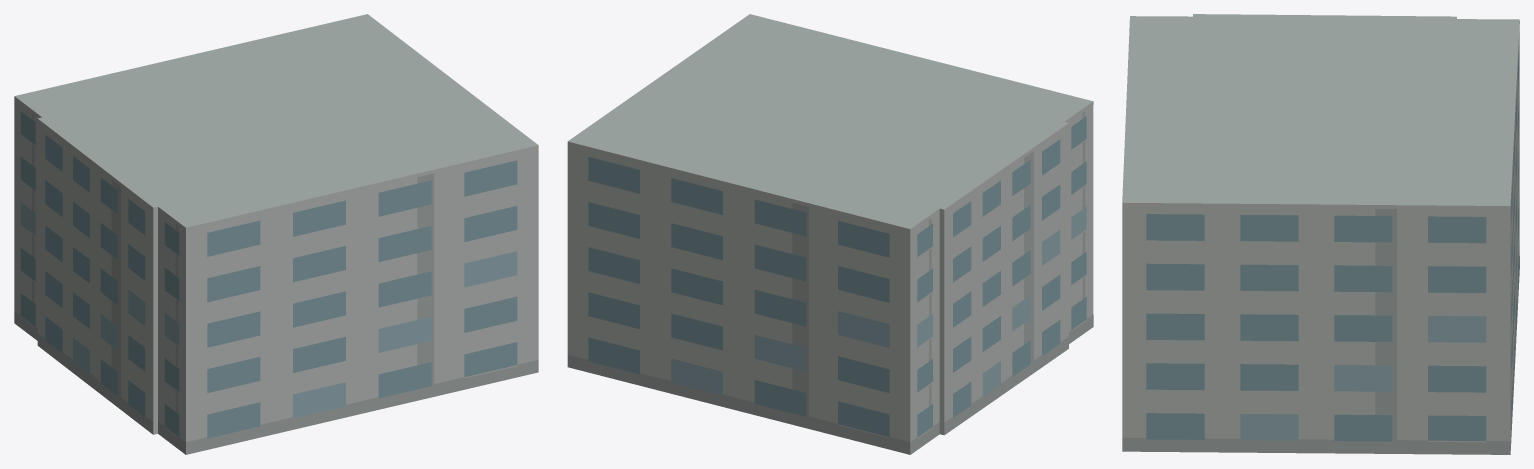
Rendered from survey-upis-32837905.glb.
3 views of the same model, side by side, from view 1: azimuth 30°, elevation 25°; view 2: azimuth 150°, elevation 25°; view 3: azimuth 270°, elevation 25° (orthographic). The views are drawn at different scales.
Parts seen in each view (by area): view 1: survey-upis-32837905.tmp; view 2: survey-upis-32837905.tmp; view 3: survey-upis-32837905.tmp.
Boxes of the visible parts, box(x1,y1,x2,y2) form: survey-upis-32837905.tmp: box(14, 14, 538, 454); survey-upis-32837905.tmp: box(567, 14, 1093, 454); survey-upis-32837905.tmp: box(1122, 14, 1519, 454).
Size of the model in its own units: 25.26 by 15.25 by 22.1.
